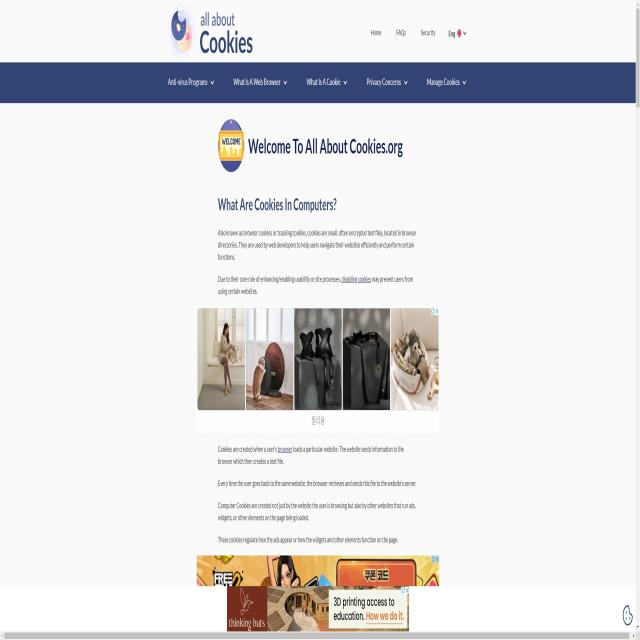menu-bar: (356, 16, 476, 53)
tab-bar: (162, 56, 471, 106)
